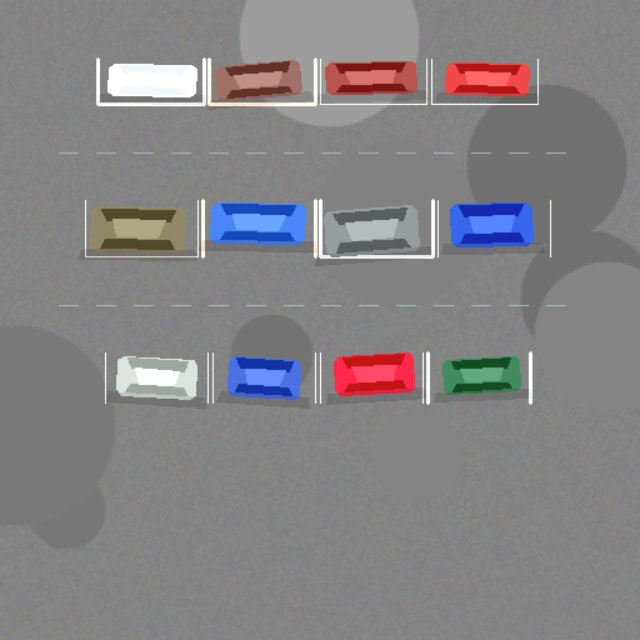space-occupied: (320, 200, 433, 256), (437, 200, 550, 256), (85, 200, 197, 256), (203, 200, 315, 256), (105, 353, 208, 403), (212, 353, 315, 403), (320, 353, 422, 403), (428, 353, 530, 403), (431, 59, 538, 104), (98, 59, 204, 104), (209, 59, 315, 104), (320, 59, 426, 104)
